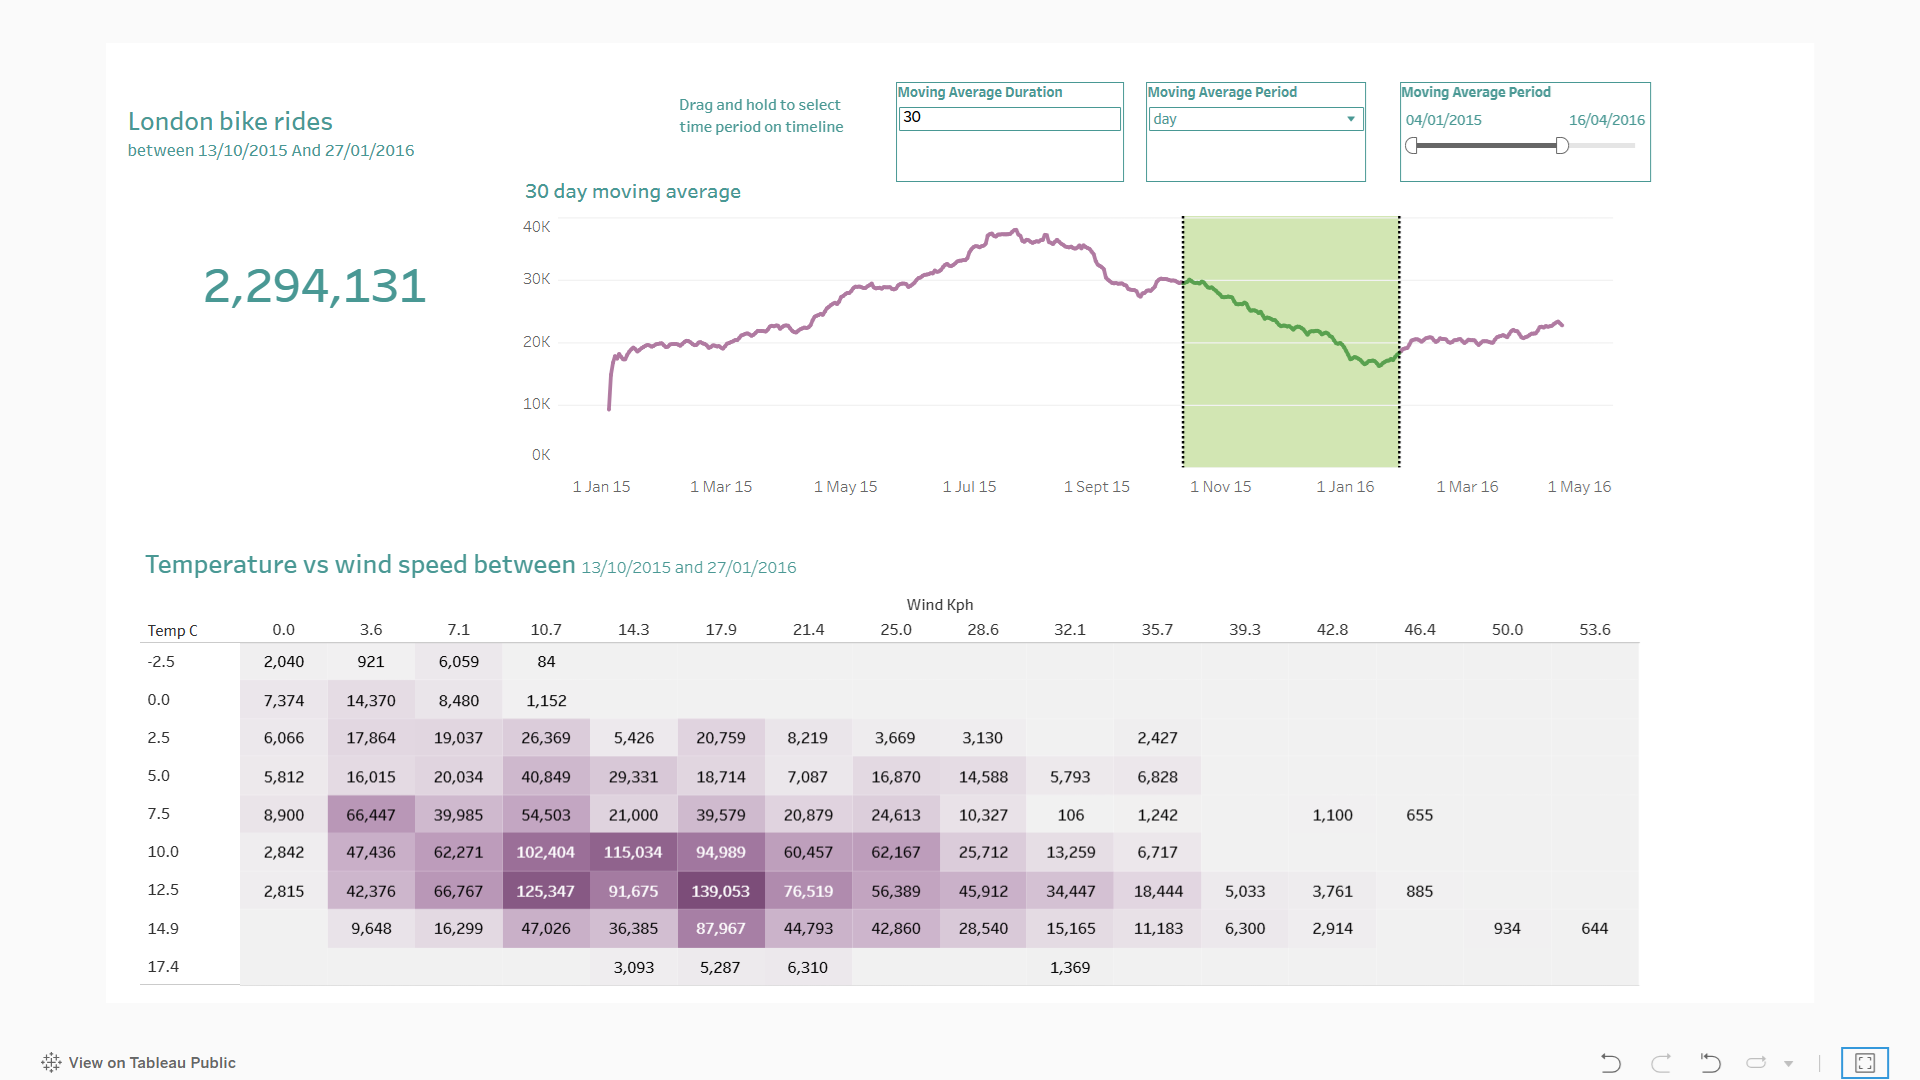

What the dashboard file says about the page in this screenshot:
{"tool":"tableau","page":{"name":"Dashboard ","canvas":[1366,768],"ordinal":0},"visuals":[{"type":"text","box":[415,26,216,63]},{"type":"parameter","param":"[Parameters].[Parameter 2]","box":[632,31,182,80]},{"type":"parameter","param":"[Parameters].[Parameter 1]","box":[832,31,176,80]},{"type":"filter","title":"Moving Average","param":"[federated.1fvcojv0vcji8w15nttaj1n5u3h8].[none:Calculation_1119144569357266944:q","box":[1035,31,201,80]},{"type":"worksheet","title":"Total Rides","mark":"Automatic","box":[5,33,321,256]},{"type":"worksheet","title":"Moving Average","mark":"Automatic","rows":["Calculation1"],"cols":["Calculation_1119144569357266944"],"box":[323,92,890,316]},{"type":"worksheet","title":"Heat Map","mark":"Square","rows":["temp real C (bin)"],"cols":["Wind Speed Kph (bin)"],"box":[19,388,1216,374]}]}

Visuals, with their boxes on the page's 1366x768 design canvas (x1, y1, x2, y2). These are canvas units, not pixel positions in the 1920x1080 screenshot, which may show the page scaled, cropped or inside an application window:
text: <bbox>415, 26, 631, 89</bbox>
parameter: <bbox>632, 31, 814, 111</bbox>
parameter: <bbox>832, 31, 1008, 111</bbox>
"Moving Average" filter: <bbox>1035, 31, 1236, 111</bbox>
"Total Rides" worksheet: <bbox>5, 33, 326, 289</bbox>
"Moving Average" worksheet: <bbox>323, 92, 1213, 408</bbox>
"Heat Map" worksheet (Square marks): <bbox>19, 388, 1235, 762</bbox>
